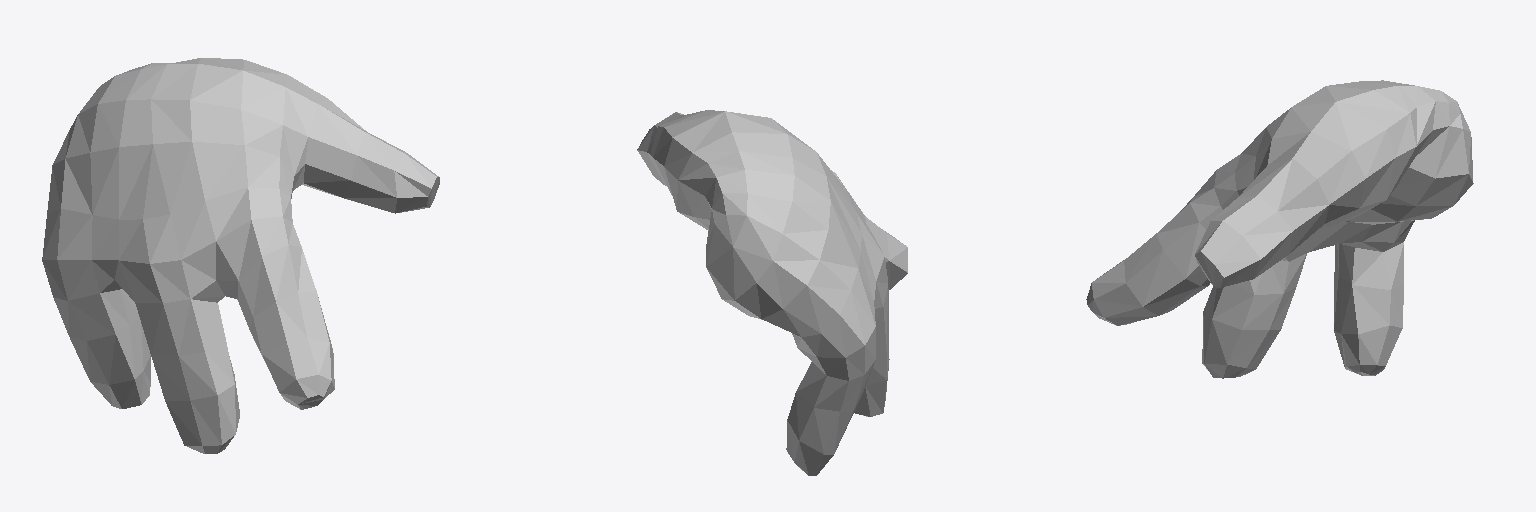
File: armR.obj
3 renders of one model, left to right at view 1: azimuth 30°, elevation 25°; view 2: azimuth 150°, elevation 25°; view 3: azimuth 270°, elevation 25°, orthographic.
Parts seen in each view (by area): view 1: initialShadingGroup handR; view 2: initialShadingGroup handR; view 3: initialShadingGroup handR.
Part boxes in pixels (x1,y1,x2,y2): initialShadingGroup handR: (42,58,439,453); initialShadingGroup handR: (637,110,907,475); initialShadingGroup handR: (1086,80,1473,378).
Bounding box in the file's own units: 0.9734 × 0.9659 × 1.05.